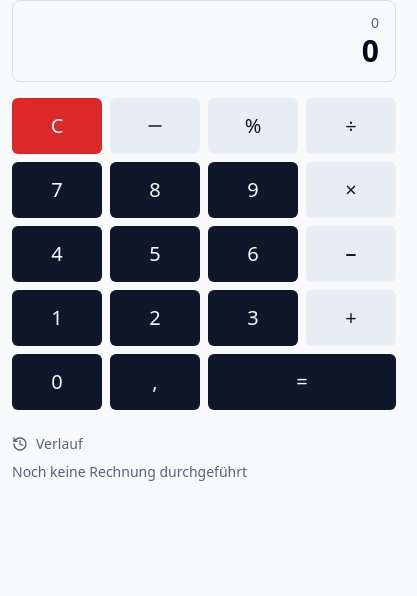
it: Calculator — Fehleranzeige und Wiederholen › zeigt die Backend-Message bei Division durch null (5 ÷ 0)
What coordinates should you click on to do the following:
click the button "5"
I would click on:
 (155, 254)
Its box is [110,226,200,282].
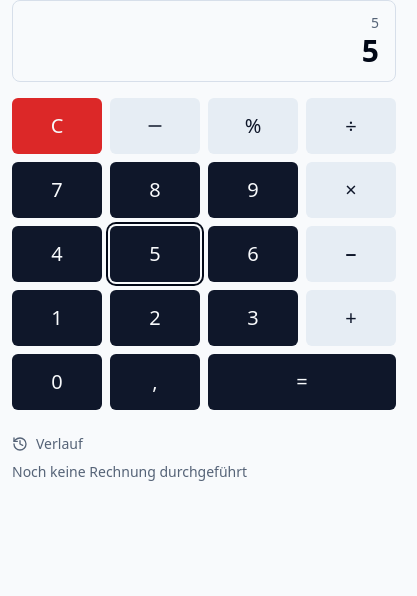
What coordinates should you click on to do the following:
click the button "÷"
I would click on:
 (351, 126)
Its box is [306,98,396,154].
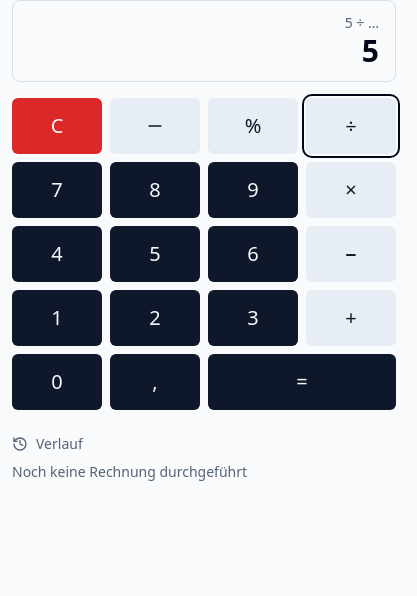
What coordinates should you click on to do the following:
click the button "0"
I would click on:
 (57, 382)
Its box is [12,354,102,410].
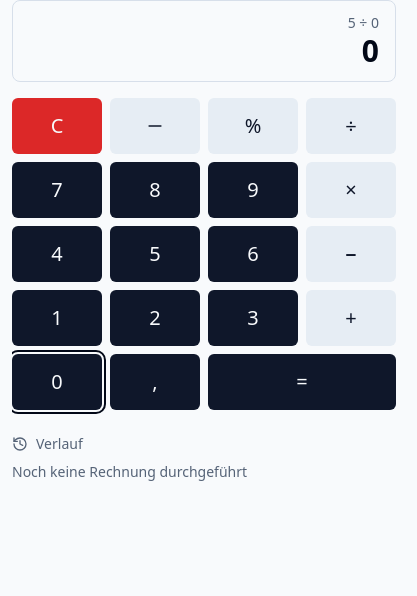
What coordinates should you click on to do the following:
click the button named "Gleich"
I would click on:
 (302, 382)
Its box is [208,354,396,410].
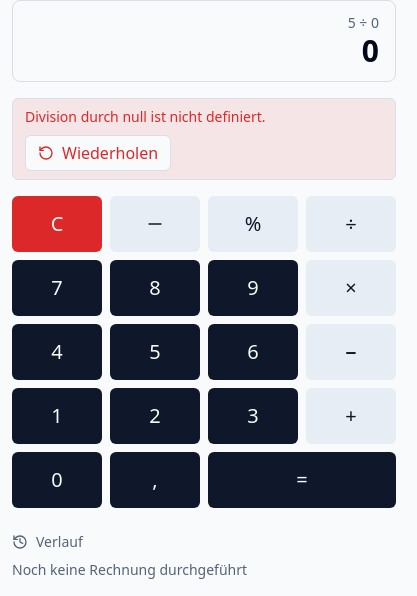
Expected: the button "7" is enabled, [12,260,102,316]
Now the text "Division durch null ist nicht definiert." is shown, box [25,107,266,126]
Now the message "Division durch null ist nicht definiert. Wiederholen" is shown, box [12,98,396,180]
